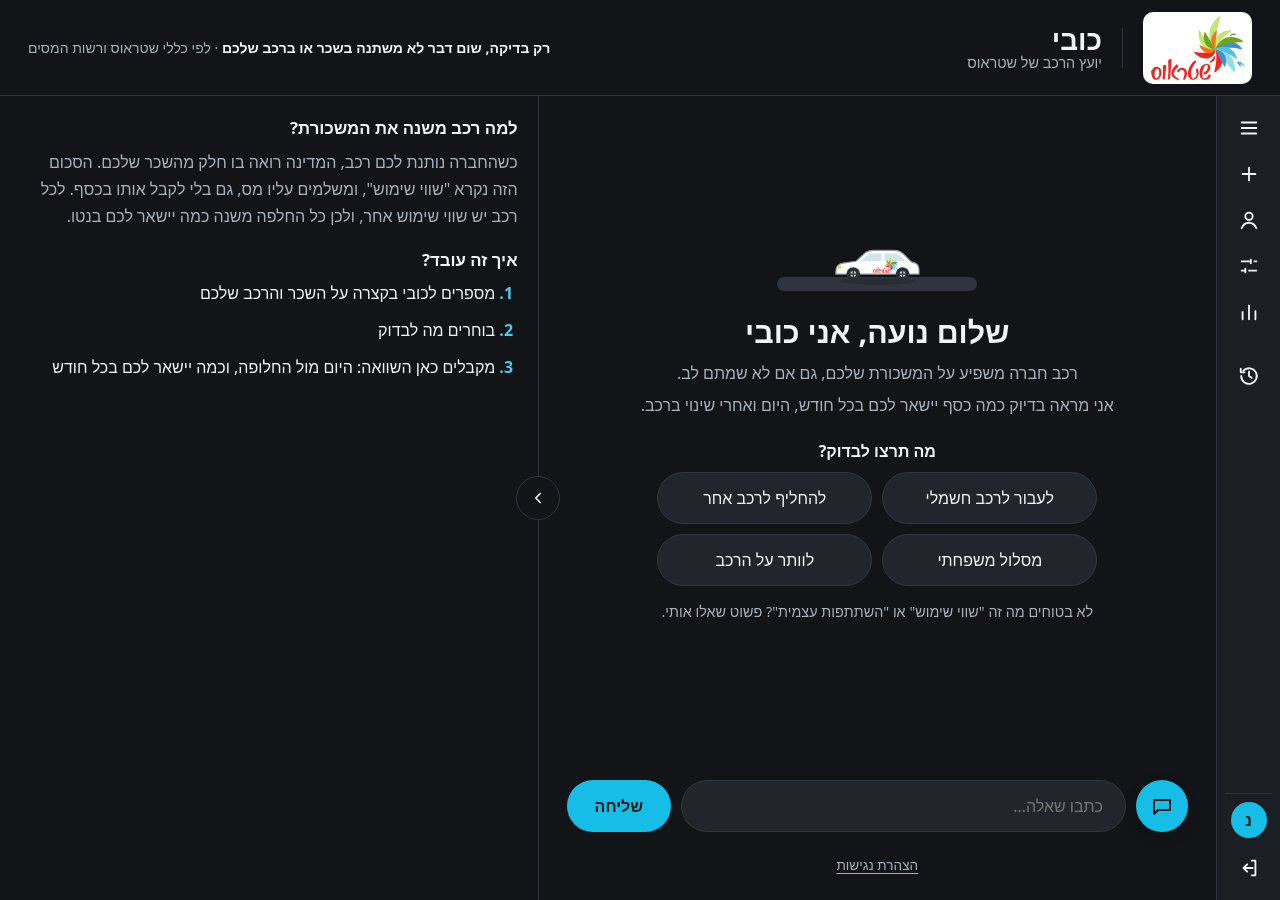
Scenario: the window › shows what is kept on the server
The image size is (1280, 900).
Click the 3rd button named "התאמה אישית" at (1248, 266), box [1225, 244, 1272, 288]
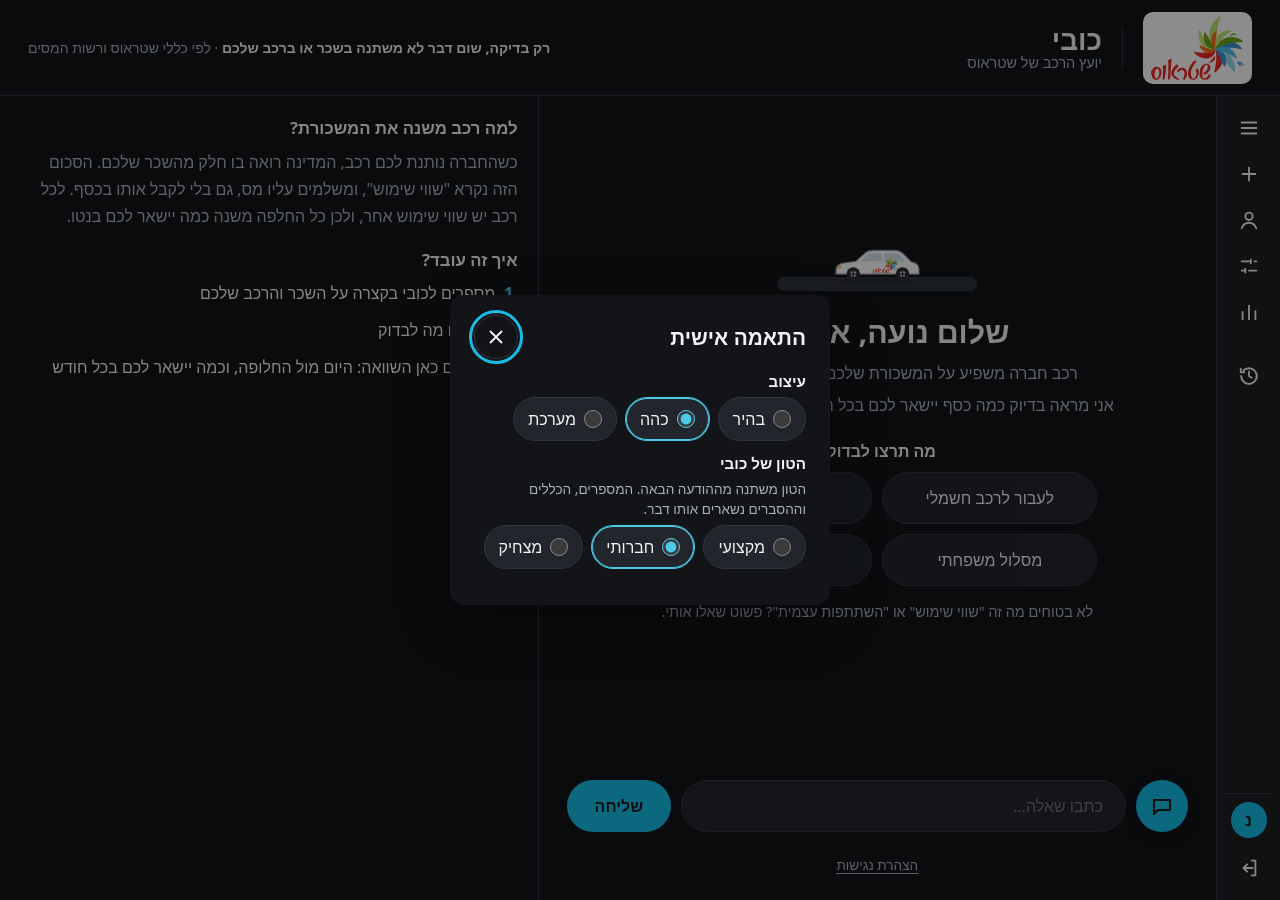
Expected: the radio button labelled "כהה" is checked, [677, 410, 695, 428]
Expected: the radio button labelled "חברותי" is checked, [662, 538, 680, 556]
